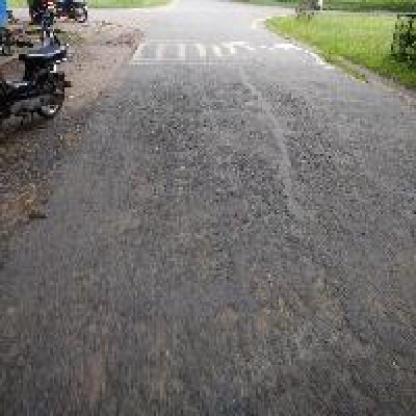Speed Bump: (125, 40, 333, 66)
